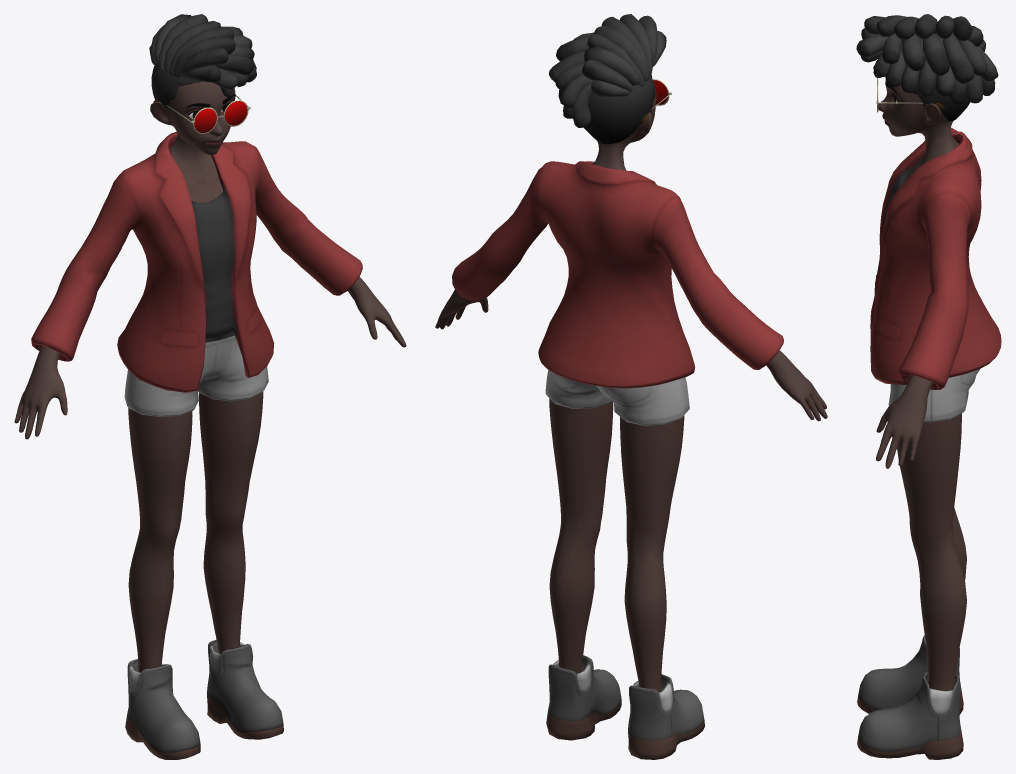
The model's file is Chloe_Mesh.obj.
3 views of the same model, side by side, from view 1: azimuth 30°, elevation 25°; view 2: azimuth 150°, elevation 25°; view 3: azimuth 270°, elevation 25° (orthographic).
Visible parts, largest first — view 1: Chloe_Mesh_0; view 2: Chloe_Mesh_0; view 3: Chloe_Mesh_0.
Boxes of the visible parts, x1=… form: Chloe_Mesh_0: x1=14, y1=14, x2=406, y2=759; Chloe_Mesh_0: x1=435, y1=14, x2=827, y2=759; Chloe_Mesh_0: x1=856, y1=14, x2=1001, y2=759.
Bounding box in the file's own units: 1.06 × 1.87 × 0.3427.
1 material, 1 textured.
